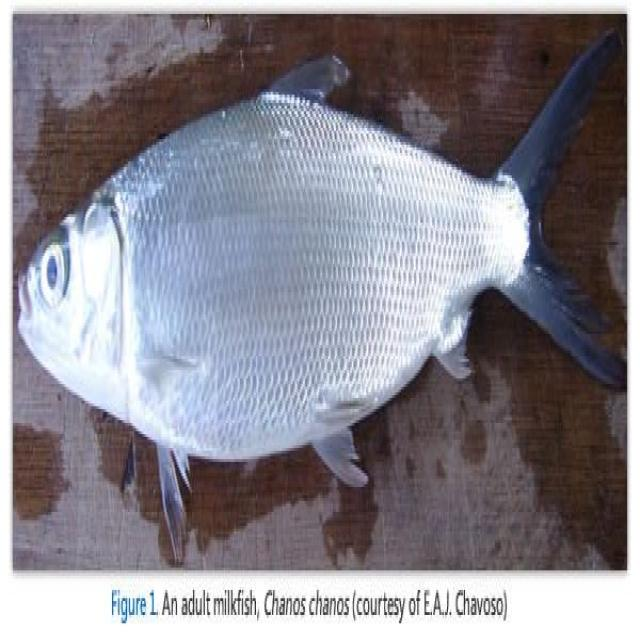Bangus: (14, 10, 631, 562)
